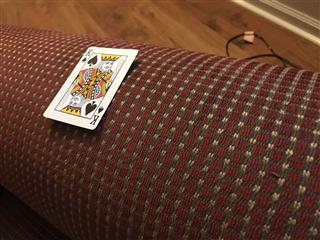KingOfSpades: (41, 45, 139, 130)
